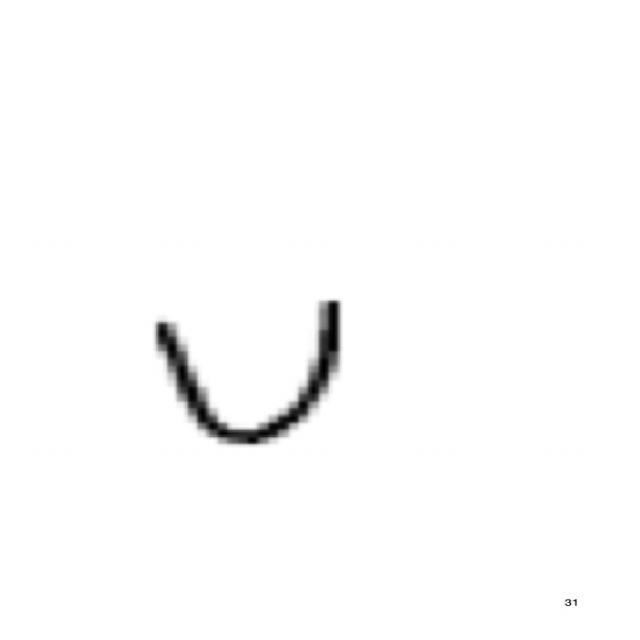7 -seven-: (140, 293, 356, 453)
